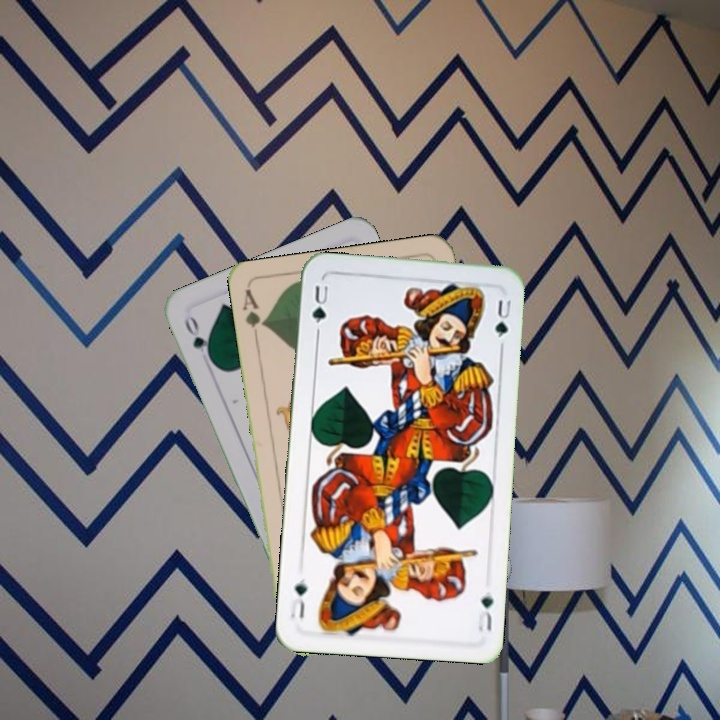GA: (239, 285, 269, 344)
GO: (180, 311, 216, 365)
GU: (308, 281, 331, 326), (474, 587, 496, 634)
